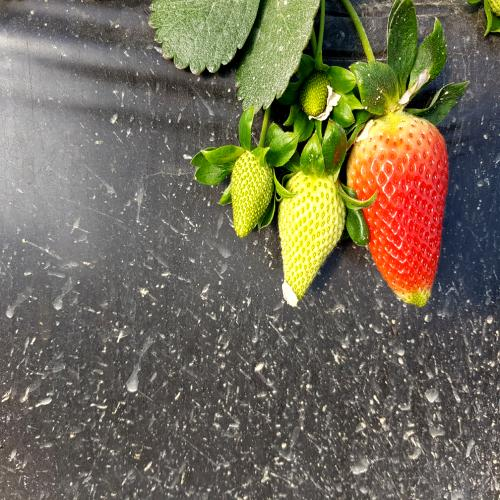ripe: (348, 104, 453, 320)
unripe: (275, 148, 344, 312)
